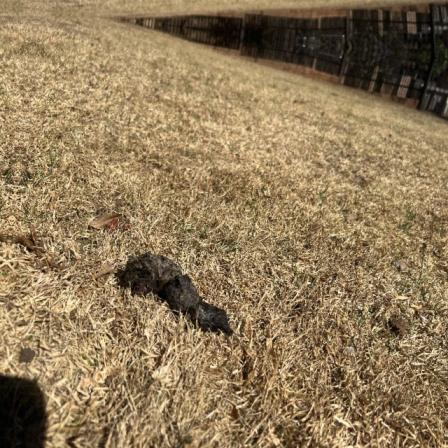dog-poop: (121, 244, 240, 342)
